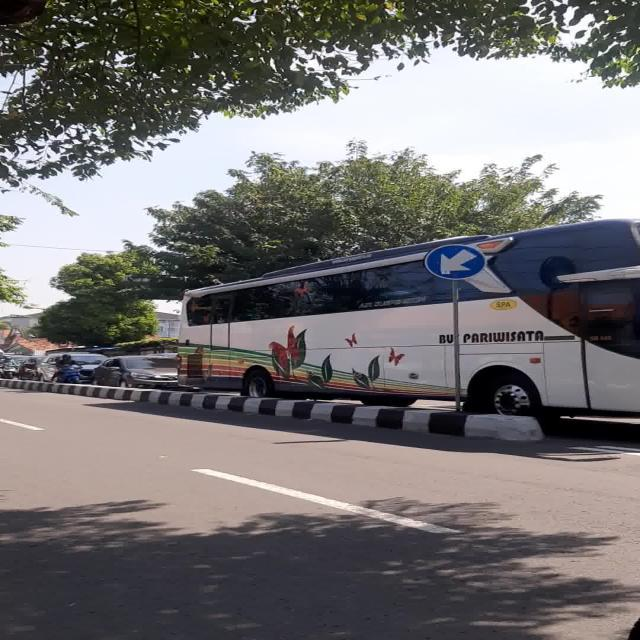Lajur Kiri: (424, 244, 486, 280)
